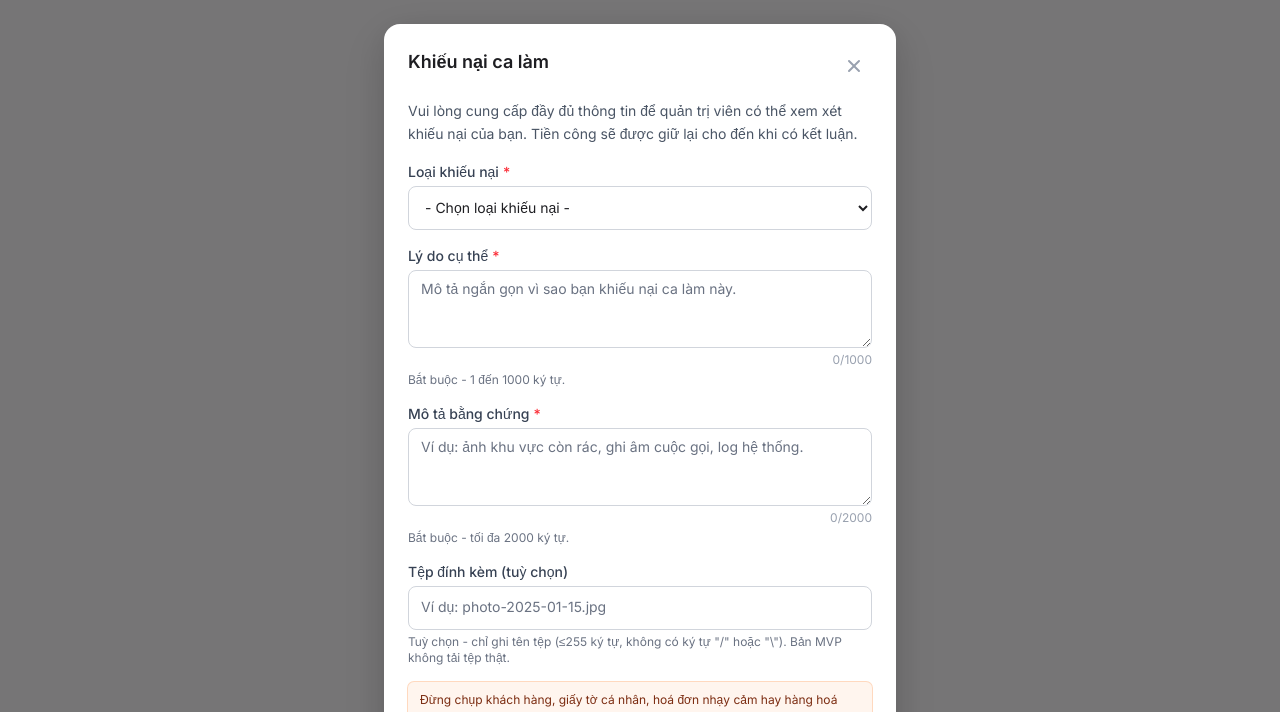
<DisputeDialog/> — Phase 10C employer side › disables submit until category, reason, and evidence description are set
Step 1. Select "Người lao động không tới" in the dropdown labelled "Loại khiếu nại*" → (640, 208), box [408, 186, 872, 230]
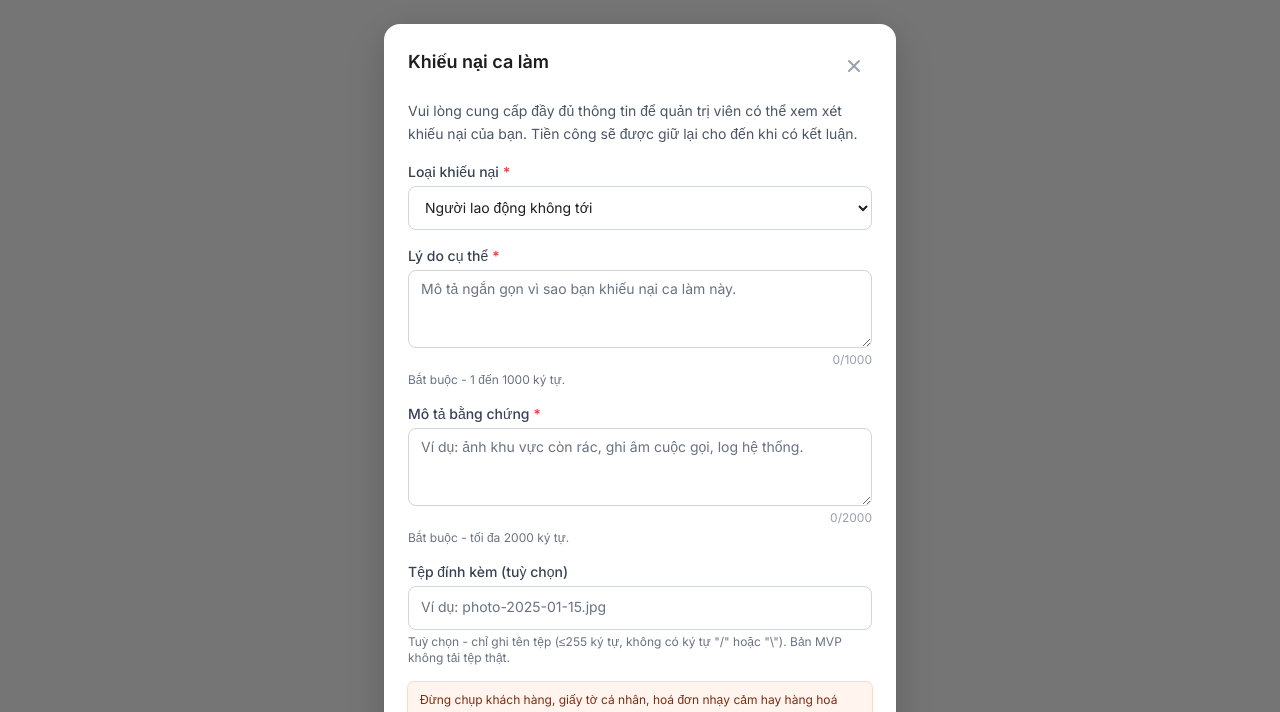
Step 2. Type "Người làm không tới ca." into the text box labelled "Lý do cụ thể*" → (640, 308), box [408, 270, 872, 348]
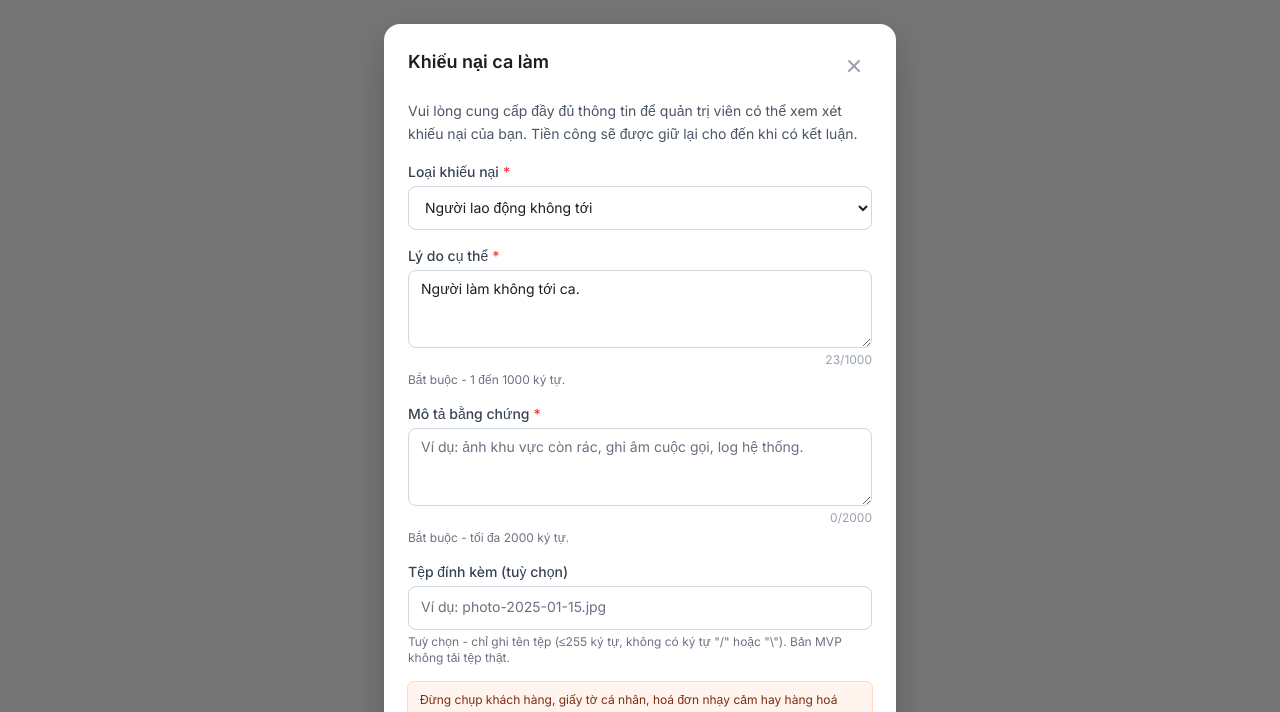
Step 3. Type "Đã liên hệ nhưng không trả lời." into the text box labelled "Mô tả bằng chứng*" → (640, 466), box [408, 428, 872, 506]
(page scrolled)
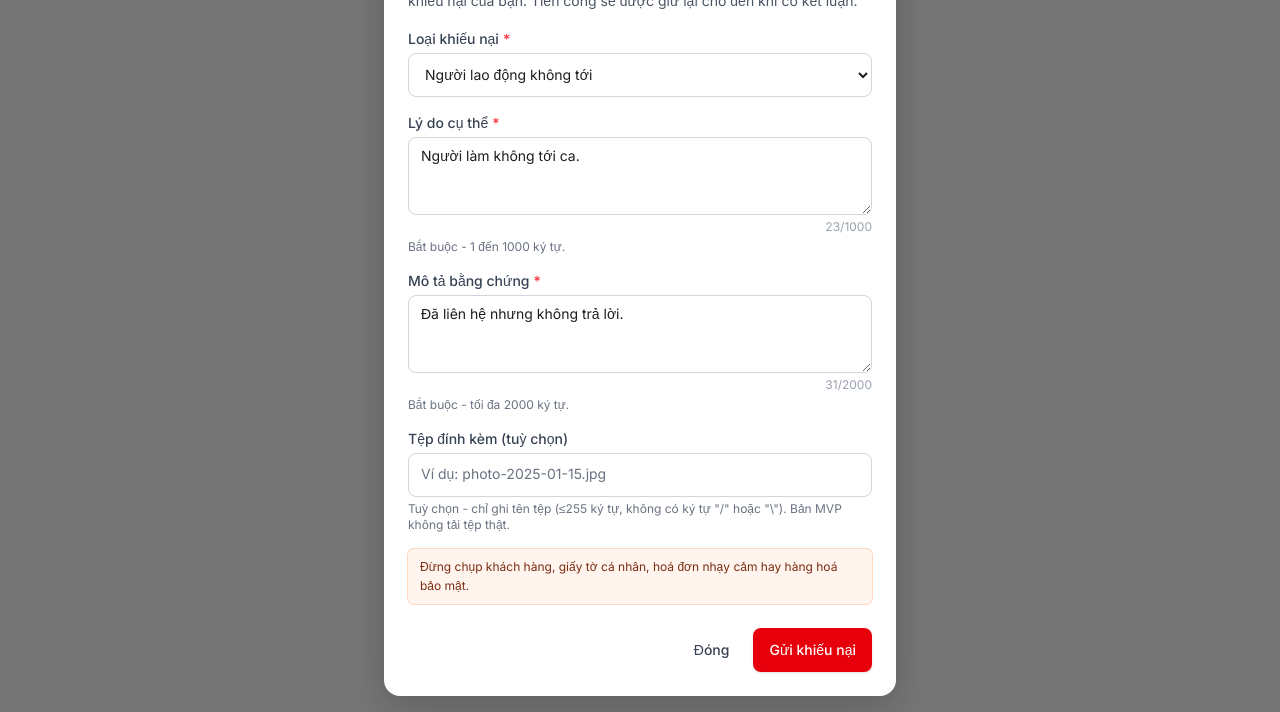
Now the button "Gửi khiếu nại" is enabled, box [753, 628, 872, 672]
